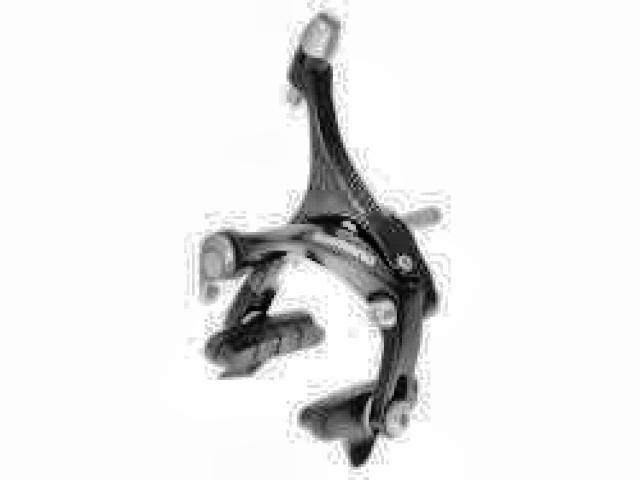rim_brake: (199, 12, 440, 476)
